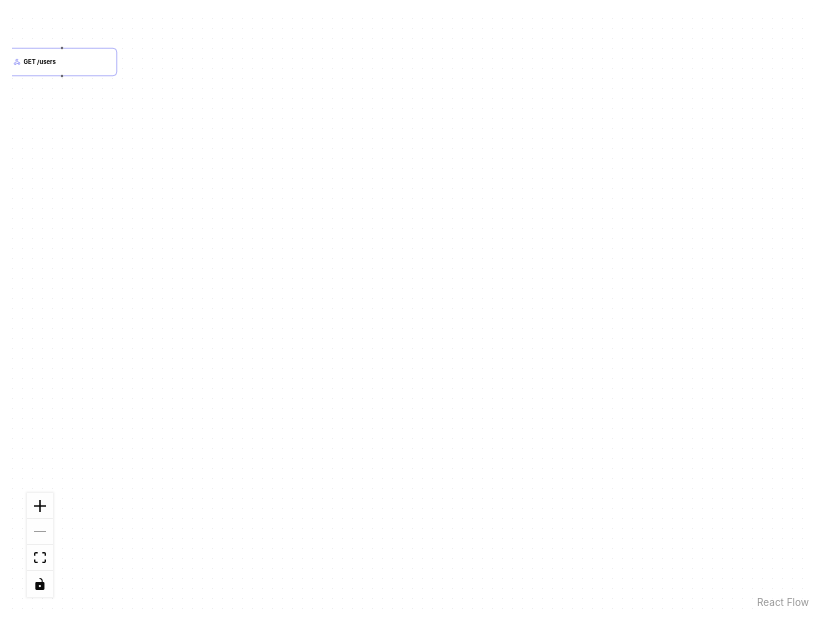
Scenario: detail panel + model reveal › shows a function's signature when selected, and reveals a touched model
Click the text "GET /users": (40,62) left=24, top=58, right=56, bottom=66
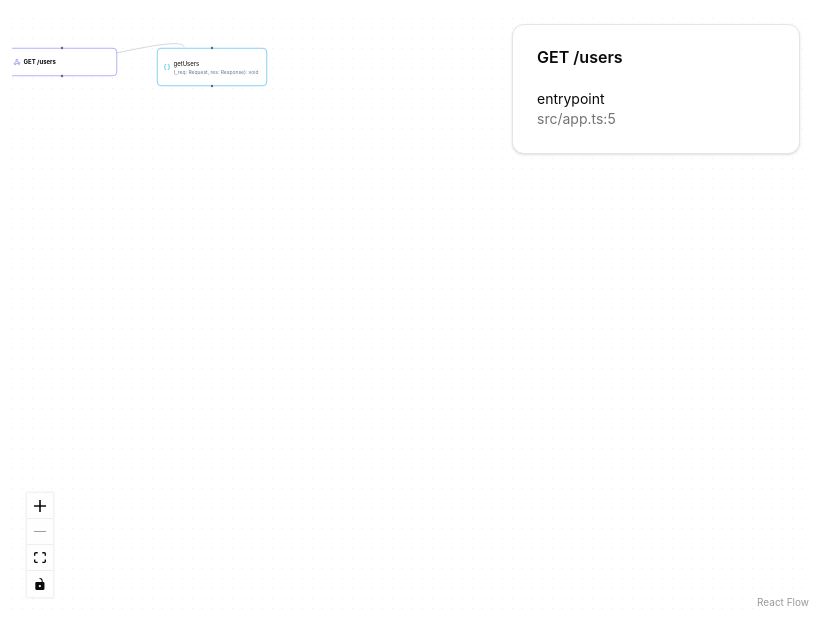
Click the text "getUsers": (186,63) left=174, top=59, right=199, bottom=67
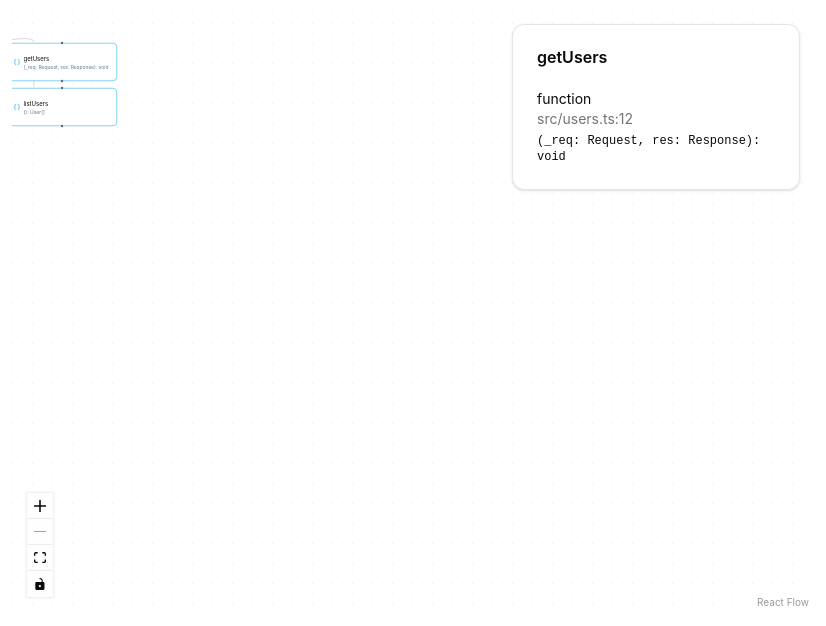
Expected: the text with test id "detail-sig" shows "_req: Request", left=537, top=134, right=760, bottom=164
Click the text "listUsers": (36,103) left=24, top=99, right=48, bottom=108
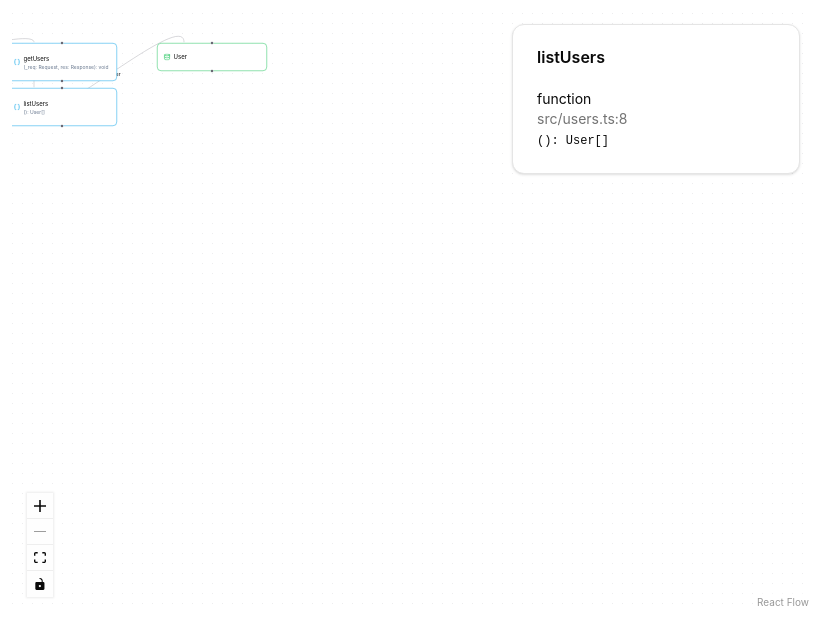
Expected: the text "User" is shown, left=174, top=52, right=187, bottom=62
